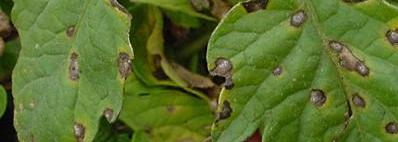Tomato Septoria leaf spot: (207, 0, 398, 142), (3, 0, 140, 142)
